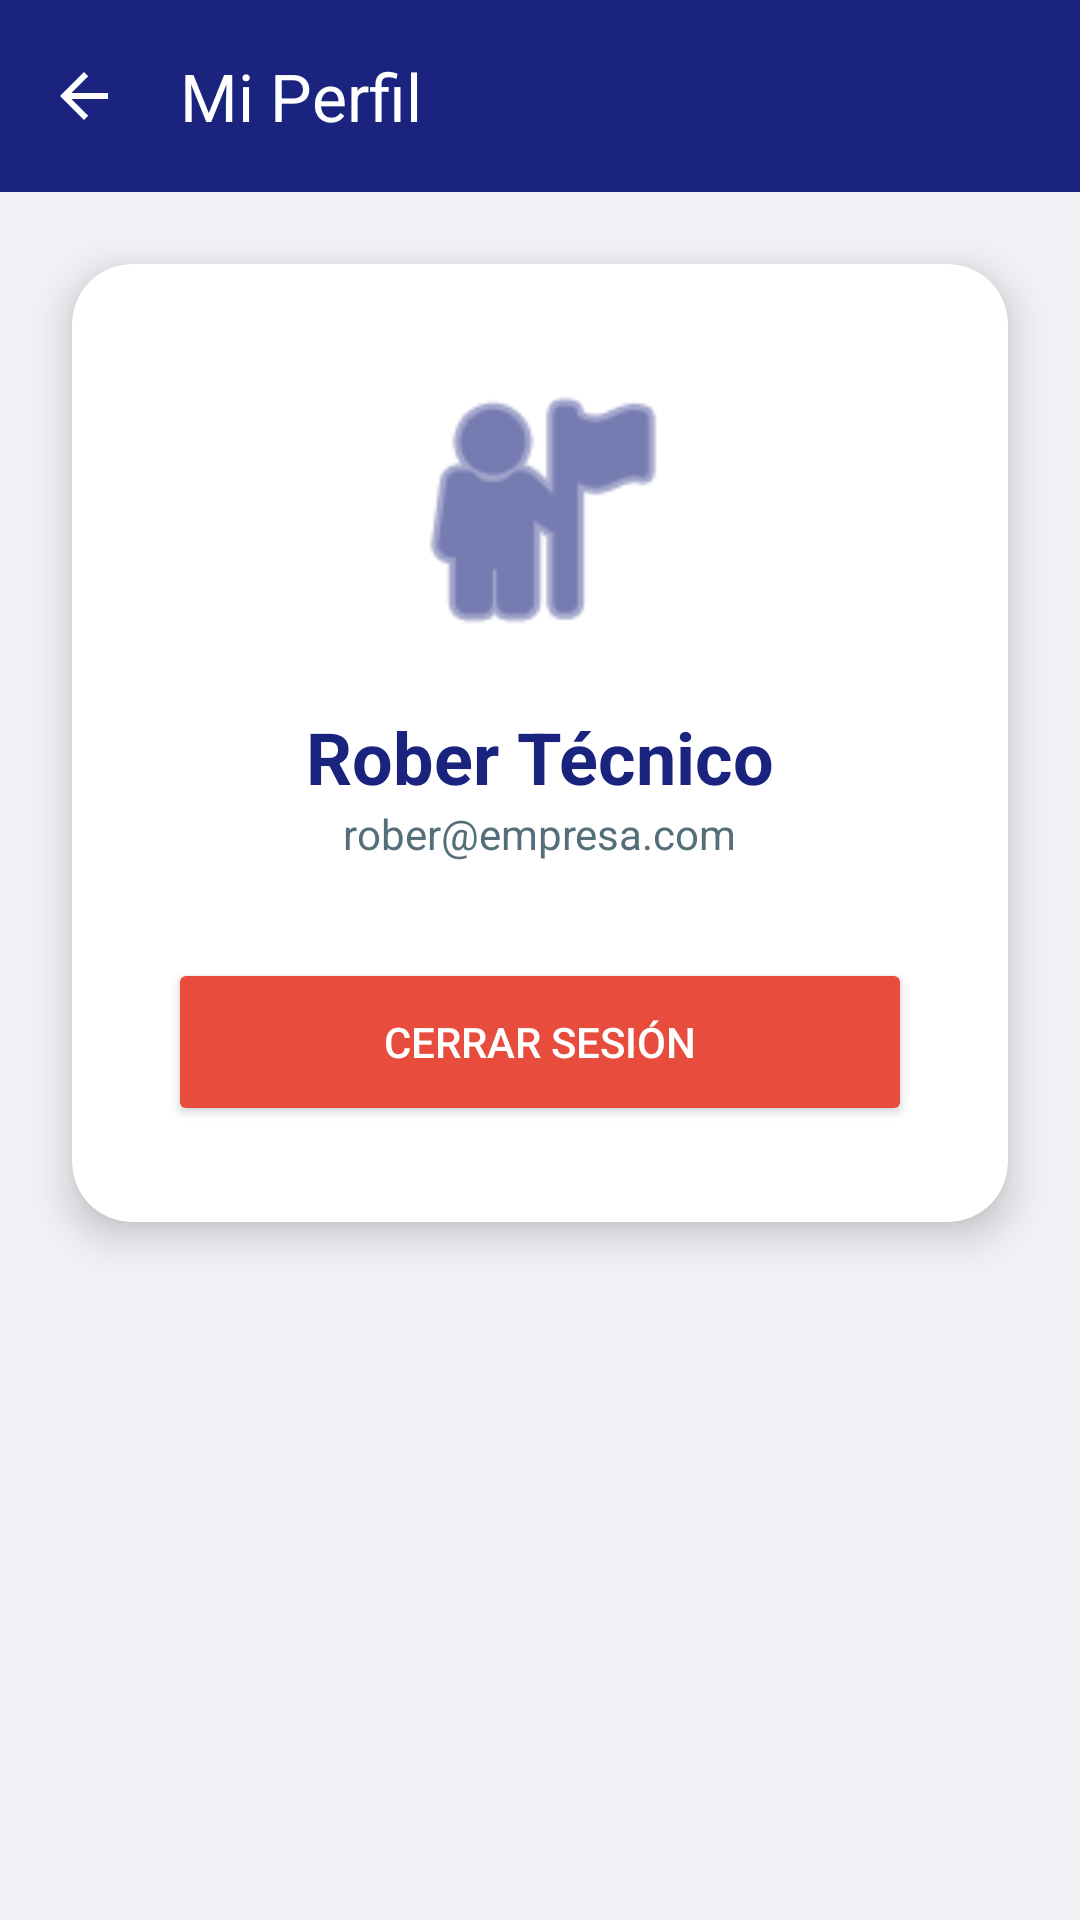

Point at icon controls on the screen. Image size 1080px x 1920px, points as point (x, y).
myplaces: point (543, 510)
